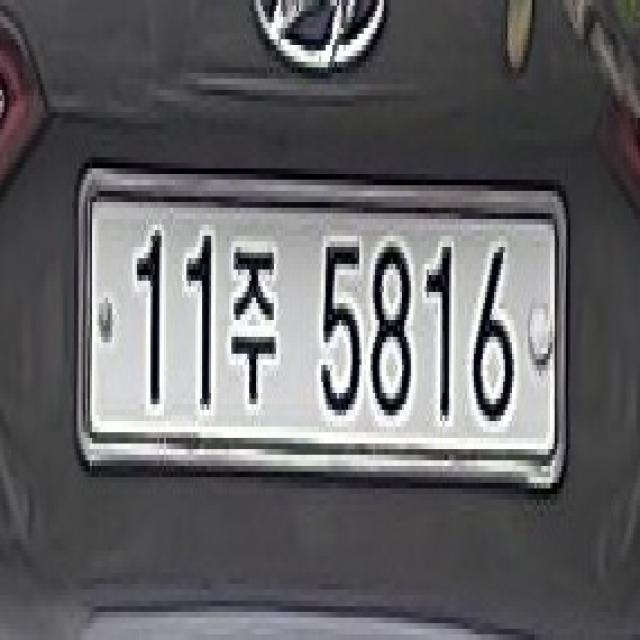1: (130, 219, 180, 421), (420, 224, 463, 438), (182, 219, 220, 427)
5: (317, 224, 366, 426)
6: (467, 230, 526, 438)
8: (366, 230, 420, 432)
ju: (222, 230, 286, 432)
license_plate: (74, 163, 575, 505)
